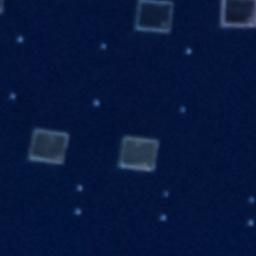square_cover: (114, 130, 163, 176), (25, 124, 73, 167), (130, 1, 177, 38), (215, 1, 256, 34)
